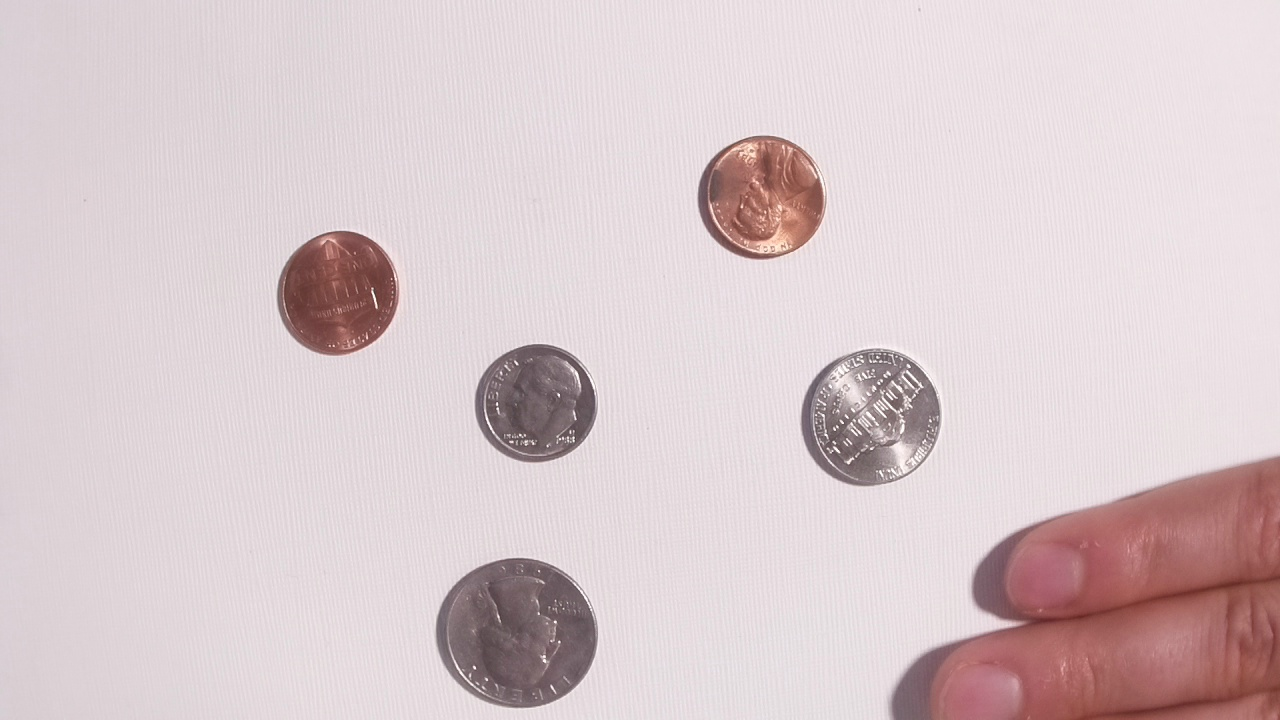dime: (470, 340, 602, 466)
nickel: (797, 342, 949, 490)
penny: (272, 223, 402, 359), (694, 132, 832, 260)
quarter: (432, 554, 600, 712)
